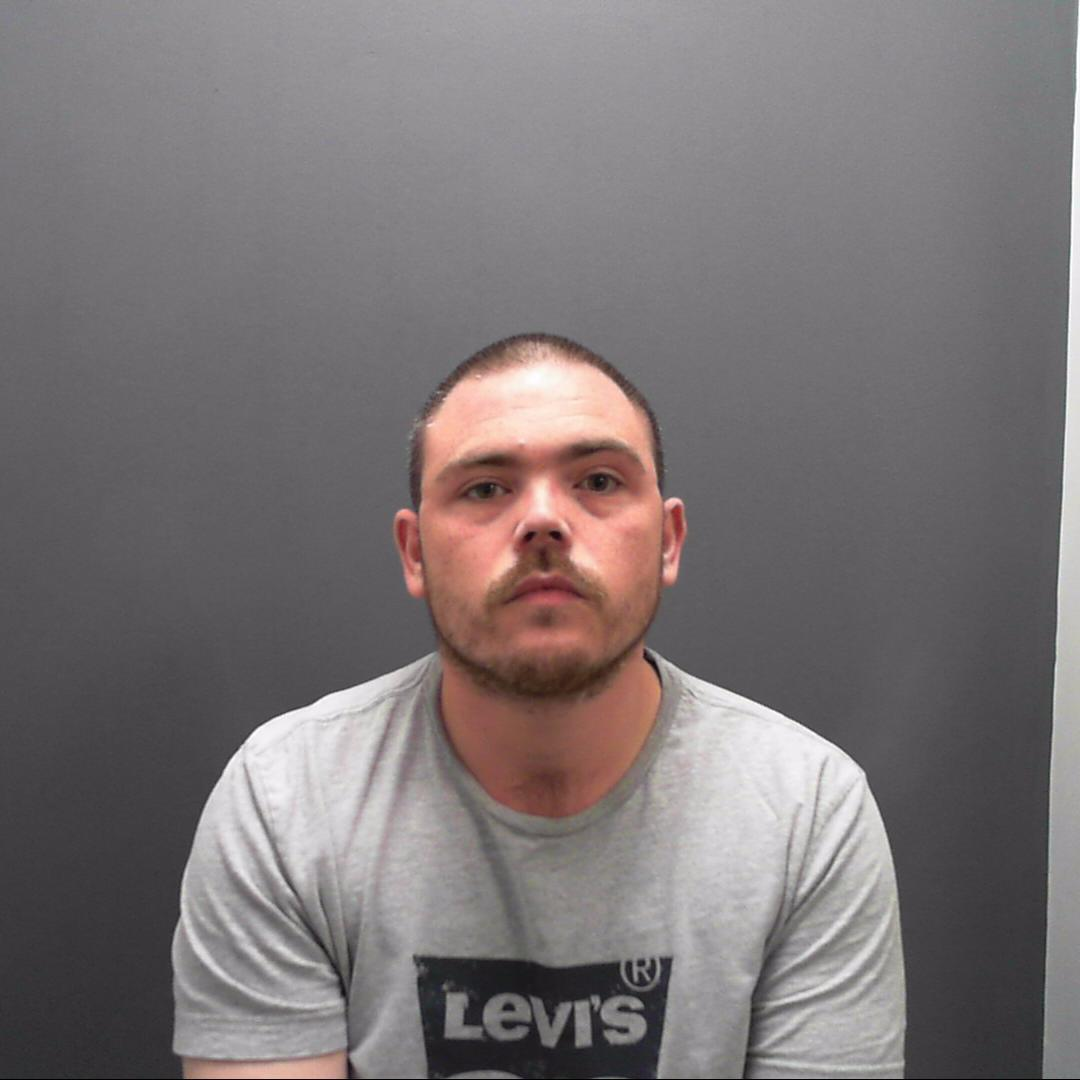Without Helmet: (388, 327, 693, 703)
